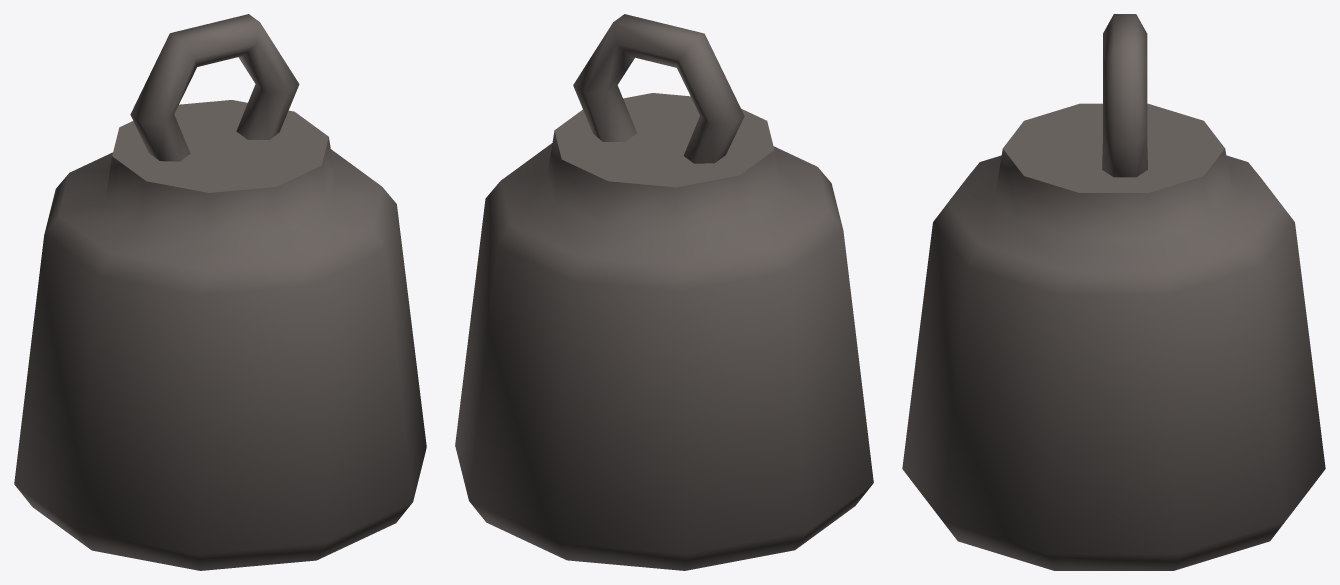
The model's file is Weight1.fbx.
3 views of the same model, side by side, from view 1: azimuth 30°, elevation 25°; view 2: azimuth 150°, elevation 25°; view 3: azimuth 270°, elevation 25° (orthographic).
Parts seen in each view (by area): view 1: Weight1; view 2: Weight1; view 3: Weight1.
Boxes of the visible parts, box(x1,y1,x2,y2) form: Weight1: box(14, 14, 426, 570); Weight1: box(455, 14, 873, 570); Weight1: box(902, 14, 1325, 570).
Bounding box in the file's own units: 4.91 × 6.19 × 5.17.
